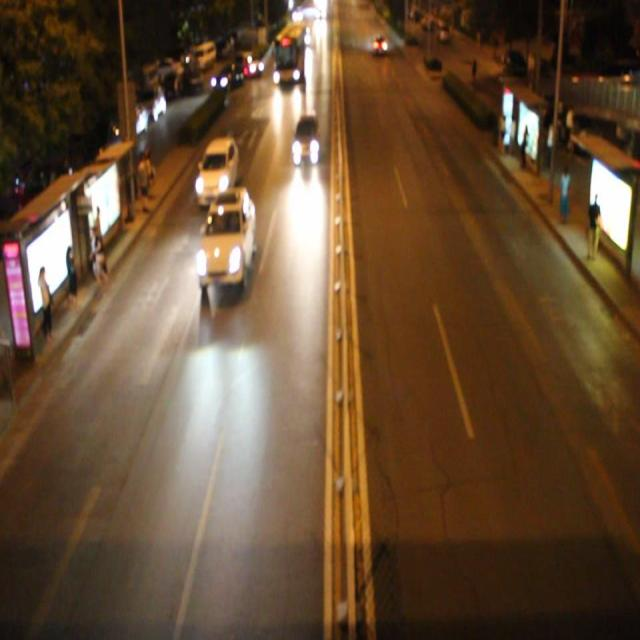car: (198, 188, 256, 293), (195, 135, 239, 209)
truck: (290, 109, 320, 167)
van: (274, 22, 306, 85)
